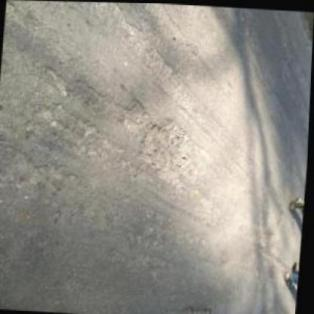Hueco: (139, 118, 195, 188), (124, 98, 151, 132)
